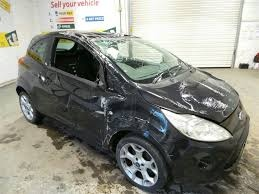Broken-glass: (93, 39, 177, 78)
Dent: (103, 101, 170, 143)
